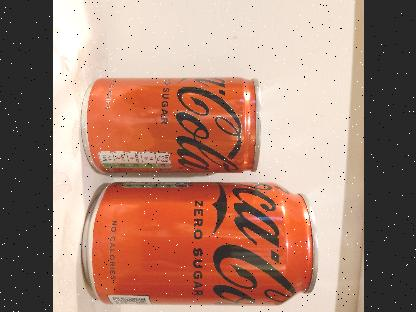Can: (78, 181, 318, 307), (82, 76, 262, 174)
